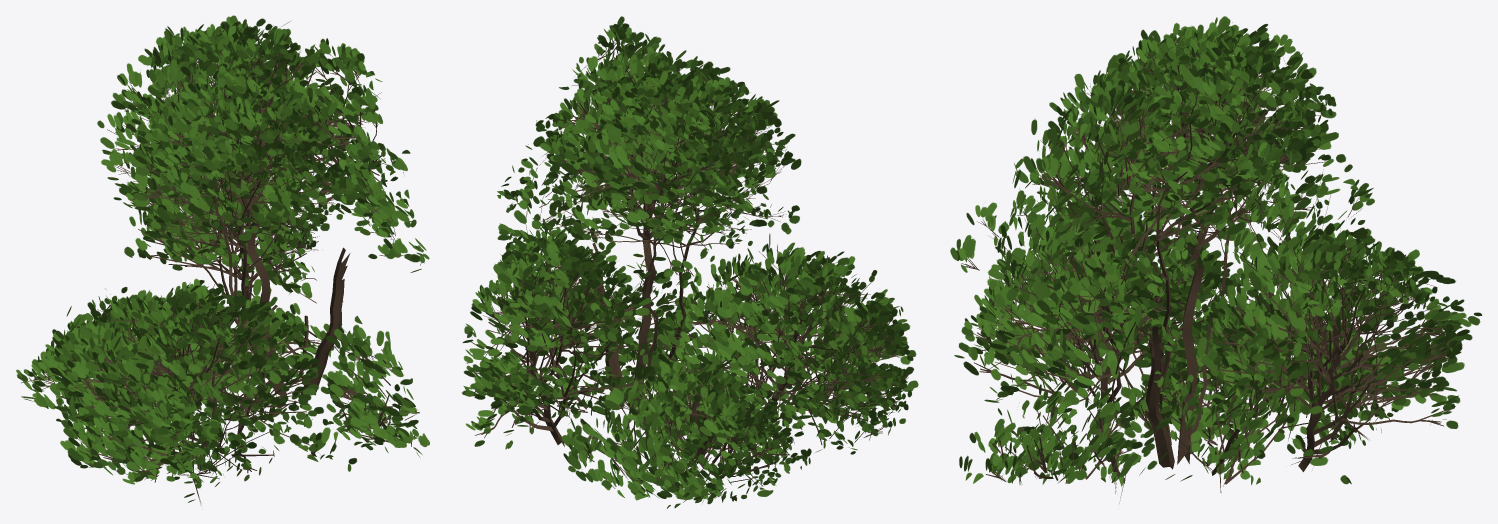
3 renders of one model, left to right at view 1: azimuth 30°, elevation 25°; view 2: azimuth 150°, elevation 25°; view 3: azimuth 270°, elevation 25°, orthographic. The views are drawn at different scales.
Parts seen in each view (by area): view 1: oak 01.001_trunk_Mat.001_0.473; view 2: oak 01.001_trunk_Mat.001_0.473; view 3: oak 01.001_trunk_Mat.001_0.473.
Part boxes in pixels (bbox=[...]): oak 01.001_trunk_Mat.001_0.473: bbox=[16, 15, 429, 504]; oak 01.001_trunk_Mat.001_0.473: bbox=[462, 16, 918, 508]; oak 01.001_trunk_Mat.001_0.473: bbox=[950, 16, 1481, 503].
Bounding box in the file's own units: 2.75 × 3.12 × 3.51.
Materials: 2 (1 with a texture image).
